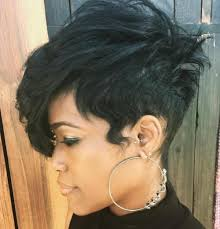black_female: (20, 30, 196, 215)
